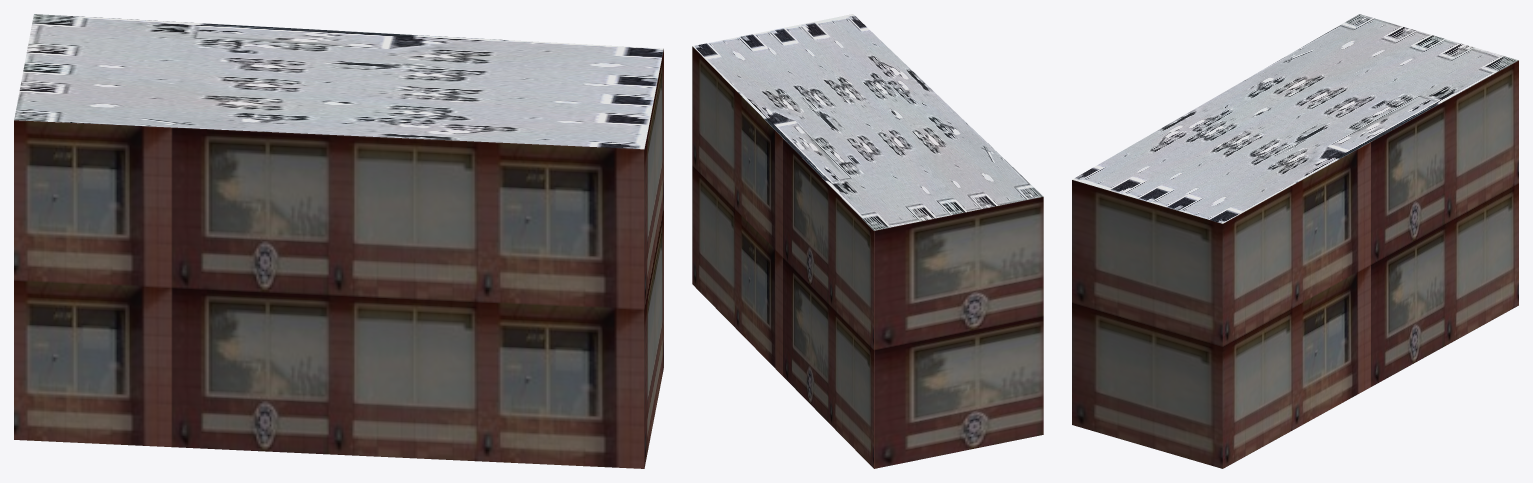
The model's file is ResTex__553.fbx.
The picture shows the model from 3 angles, left to right: view 1: azimuth 30°, elevation 25°; view 2: azimuth 150°, elevation 25°; view 3: azimuth 270°, elevation 25°; orthographic projection. The views are drawn at different scales.
Visible parts, largest first — view 1: CityEngineMaterial_13_m, CityEngineMaterial_4_m; view 2: CityEngineMaterial_13_m, CityEngineMaterial_4_m; view 3: CityEngineMaterial_13_m, CityEngineMaterial_4_m.
Boxes of the visible parts, left/top/right/bottom form: CityEngineMaterial_13_m: left=14, top=49, right=663, bottom=468; CityEngineMaterial_4_m: left=14, top=14, right=663, bottom=149; CityEngineMaterial_13_m: left=692, top=46, right=1043, bottom=468; CityEngineMaterial_4_m: left=692, top=14, right=1042, bottom=230; CityEngineMaterial_13_m: left=1072, top=60, right=1518, bottom=468; CityEngineMaterial_4_m: left=1072, top=14, right=1518, bottom=223.
Size of the model in its own units: 11.01 by 6 by 9.91.
2 materials, 2 textured.
